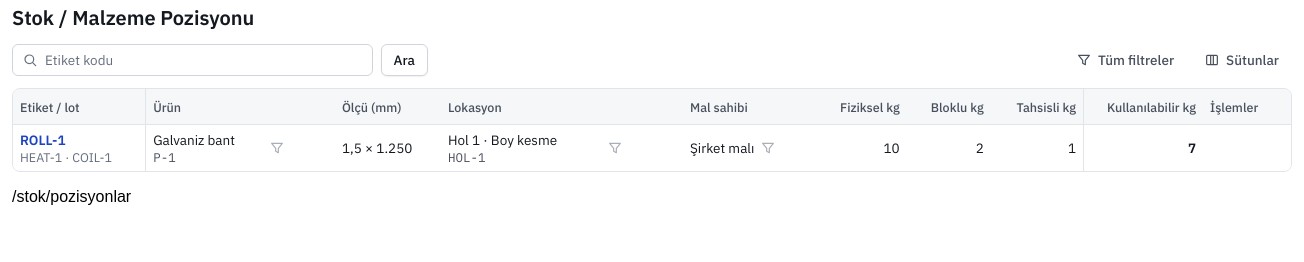
Test: ST-01 filters — only what #597 supports, from the URL › keeps the "Etiket kodu" search and its ?etiket= parameter
The width and height of the screenshot is (1304, 262).
Expected: the link "ROLL-1" is shown, [20,131,66,149]
In the field labelled "Etiket kodu": (192, 60) [12,44,373,76], type " ROLL "
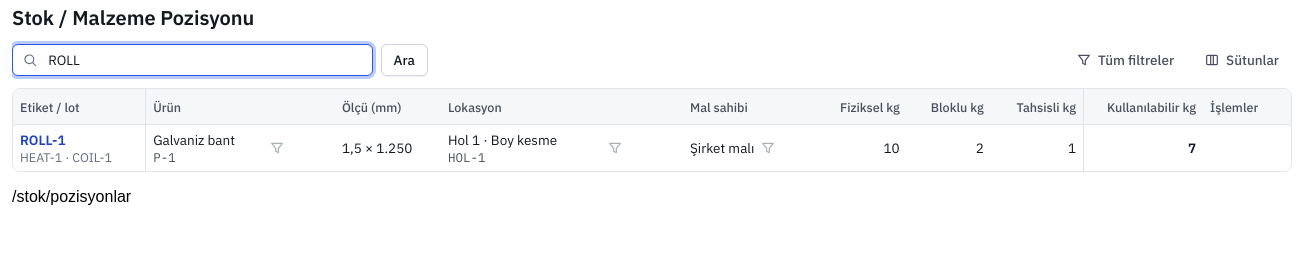
Click the button "Ara": (404, 60) [381,44,428,76]
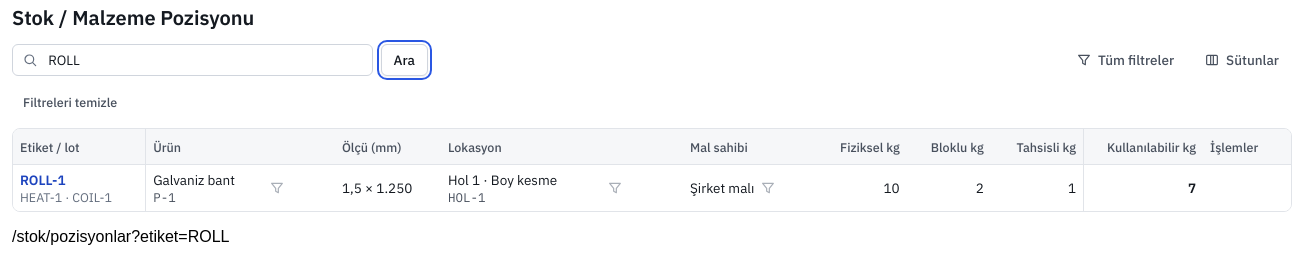
Result: the text named "Adres" reads "/stok/pozisyonlar?etiket=ROLL" at [12,228,230,245]
